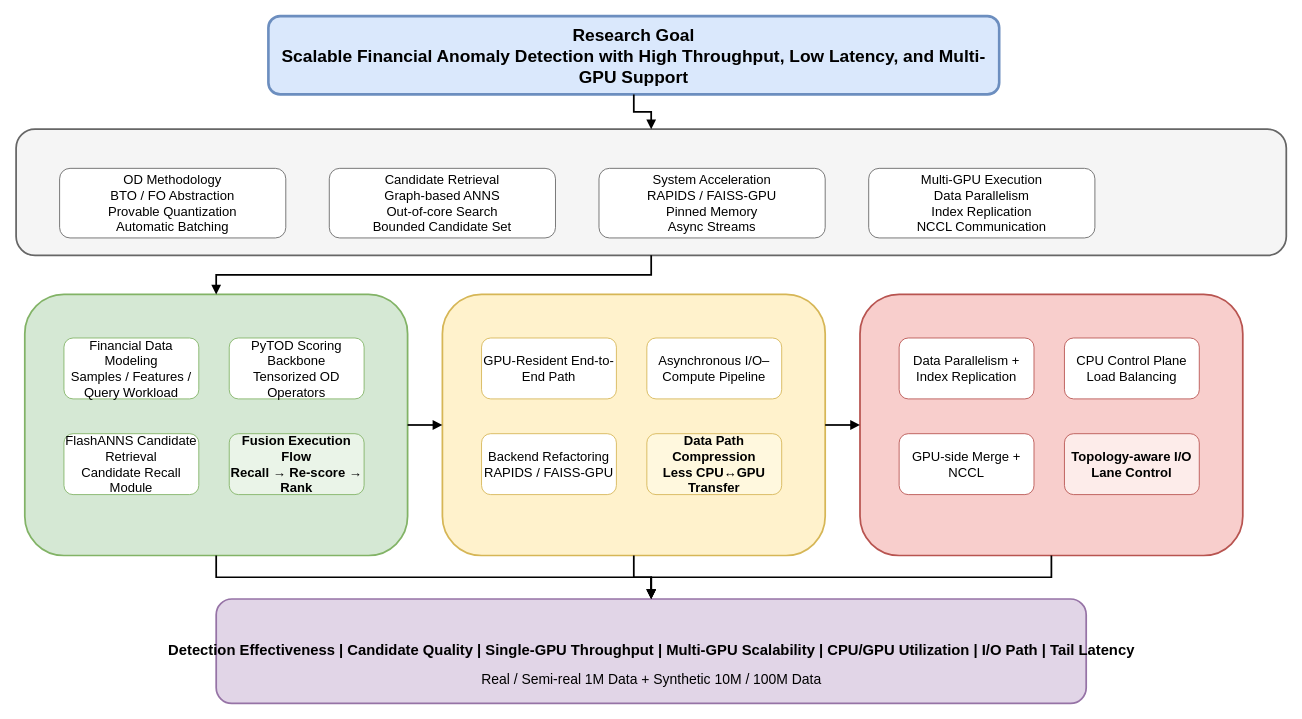
The diagram is 1302 pixels wide and 719 high, and some of its shapes have lost their labels. The box of each missing label's shape, as (x1, y1, x2, y2) in pixels:
Stage I Fusion Framework: (23, 293, 408, 556)
Stage II Single-GPU Optimization: (441, 293, 826, 556)
Stage III Multi-GPU Scaling: (859, 293, 1243, 556)
Stage IV Unified Evaluation: (215, 598, 1087, 704)
Technical Foundations: (15, 128, 1287, 256)
